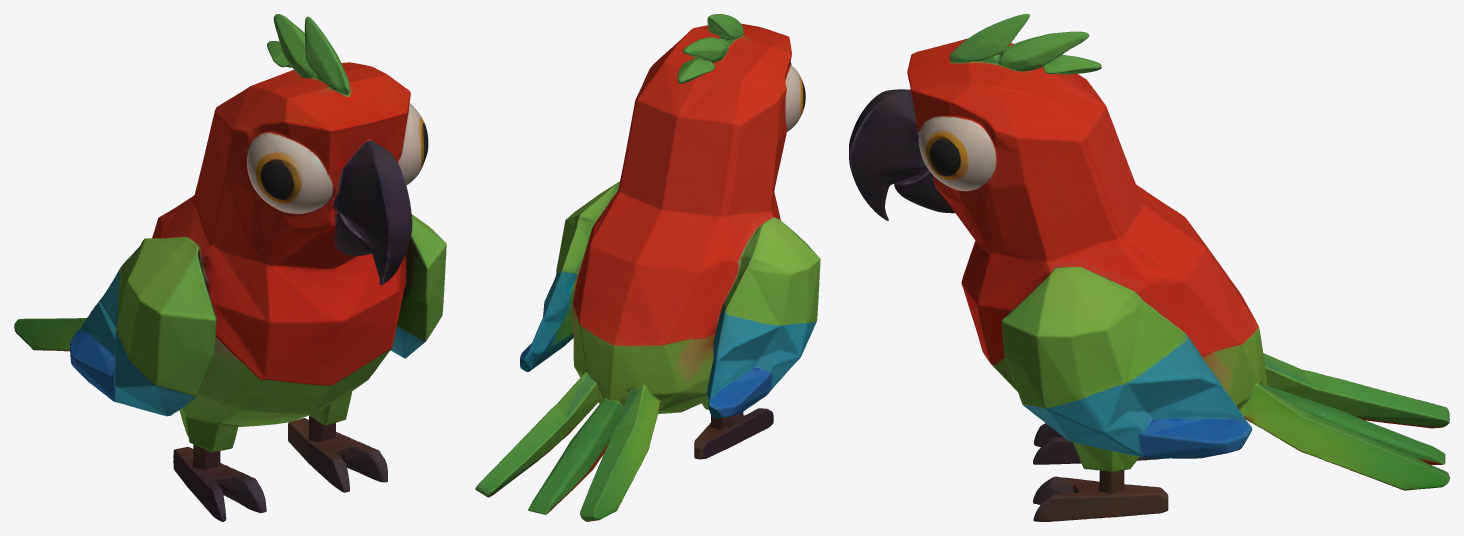
Rendered from lory.glb.
3 renders of one model, left to right at view 1: azimuth 30°, elevation 25°; view 2: azimuth 150°, elevation 25°; view 3: azimuth 270°, elevation 25°, orthographic. The views are drawn at different scales.
Parts seen in each view (by area): view 1: tripo_node_75187135-f9b8-43eb-9cb0-48750b5622a3; view 2: tripo_node_75187135-f9b8-43eb-9cb0-48750b5622a3; view 3: tripo_node_75187135-f9b8-43eb-9cb0-48750b5622a3.
Part boxes in pixels (<box>): tripo_node_75187135-f9b8-43eb-9cb0-48750b5622a3: <box>14,14,446,521</box>; tripo_node_75187135-f9b8-43eb-9cb0-48750b5622a3: <box>475,14,820,521</box>; tripo_node_75187135-f9b8-43eb-9cb0-48750b5622a3: <box>849,14,1449,521</box>.
Bounding box in the file's own units: 0.5656 × 0.8615 × 1.
Materials: 1 (1 with a texture image).
